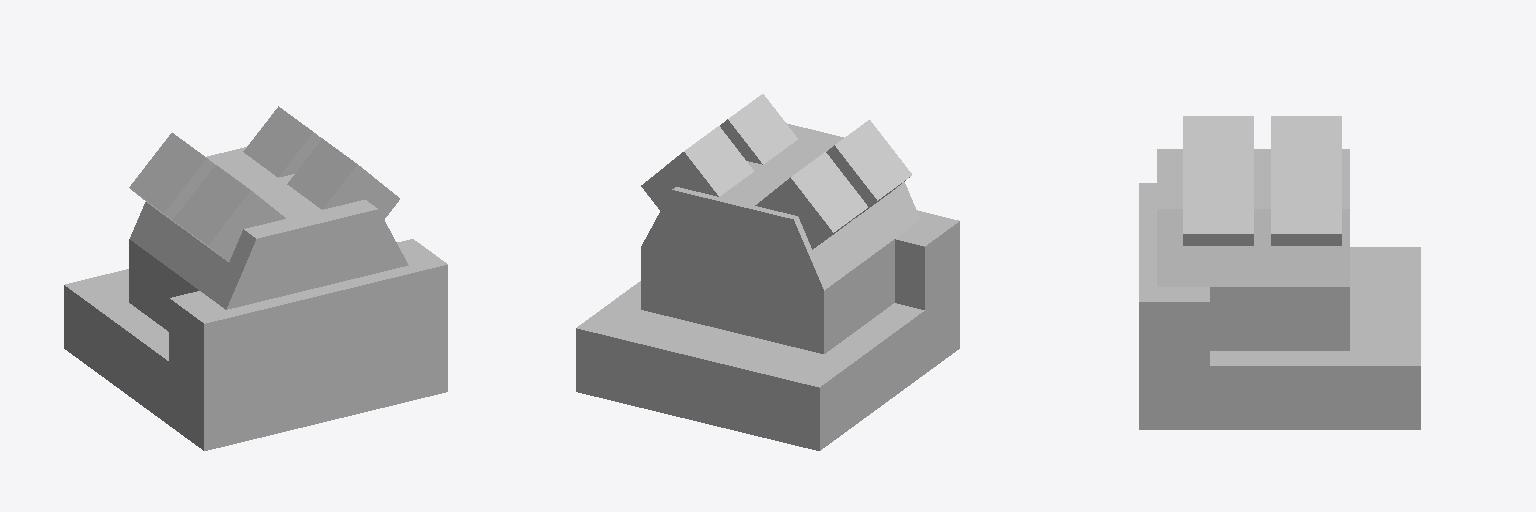
File: stirling_generator.obj
3 renders of one model, left to right at view 1: azimuth 30°, elevation 25°; view 2: azimuth 150°, elevation 25°; view 3: azimuth 270°, elevation 25°, orthographic.
Parts seen in each view (by area): view 1: base, engine_base, cylinder2, cylinder4, cylinder1, cylinder3; view 2: base, engine_base, cylinder1, cylinder3, cylinder2, cylinder4; view 3: base, engine_base, cylinder3, cylinder4, cylinder1, cylinder2.
Boxes of the visible parts, x1=… form: base: x1=64, y1=239, x2=447, y2=450; engine_base: x1=129, y1=147, x2=408, y2=331; cylinder2: x1=173, y1=165, x2=285, y2=261; cylinder4: x1=287, y1=138, x2=399, y2=219; cylinder1: x1=129, y1=133, x2=214, y2=229; cylinder3: x1=243, y1=106, x2=321, y2=177; base: x1=576, y1=210, x2=959, y2=450; engine_base: x1=641, y1=123, x2=920, y2=353; cylinder1: x1=755, y1=152, x2=867, y2=249; cylinder3: x1=641, y1=126, x2=753, y2=210; cylinder2: x1=826, y1=120, x2=911, y2=217; cylinder4: x1=720, y1=94, x2=797, y2=164; base: x1=1139, y1=183, x2=1420, y2=429; engine_base: x1=1157, y1=149, x2=1349, y2=350; cylinder3: x1=1271, y1=168, x2=1341, y2=245; cylinder4: x1=1183, y1=168, x2=1253, y2=245; cylinder1: x1=1271, y1=116, x2=1341, y2=167; cylinder2: x1=1183, y1=116, x2=1253, y2=167.
Bounding box in the file's own units: 2 × 1.79 × 2.